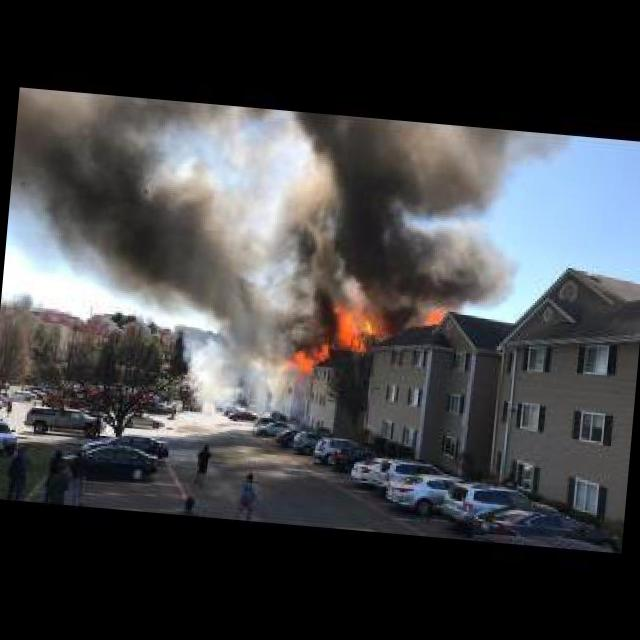Fire: (291, 304, 379, 379), (417, 300, 453, 332)
Smoke: (0, 82, 310, 353), (269, 109, 534, 304)
